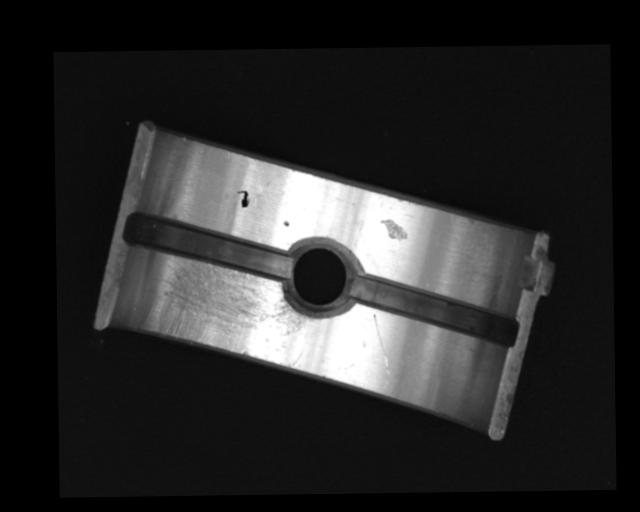blot: (235, 189, 250, 208)
bruise: (380, 218, 408, 243), (282, 220, 289, 226)
gap: (350, 270, 516, 348), (123, 209, 294, 280)
hole: (282, 237, 361, 316)
nick: (373, 312, 389, 374)
scratch: (139, 247, 307, 370)
